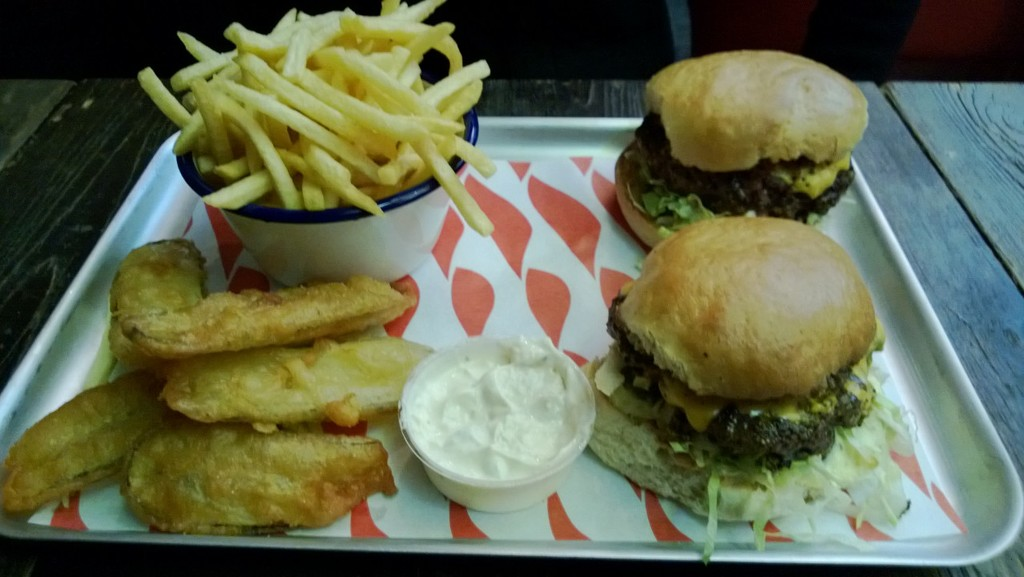French fries: (137, 0, 492, 233)
